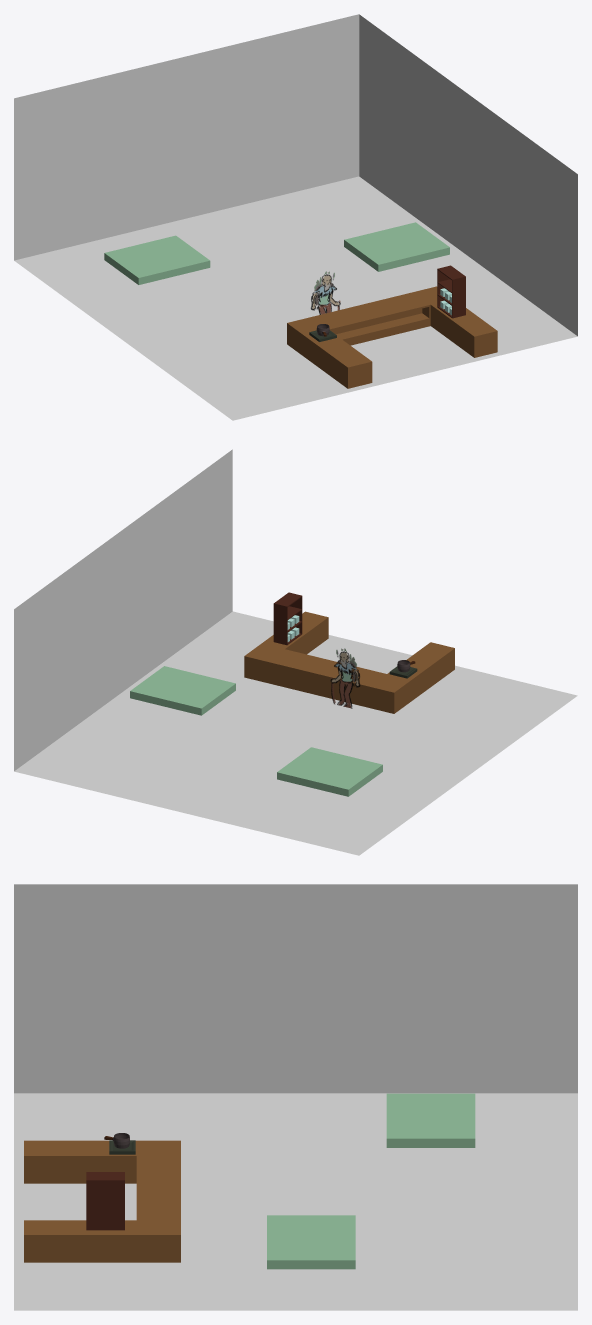
Rendered from brewing_env.glb.
The picture shows the model from 3 angles, top to bottom: view 1: azimuth 30°, elevation 25°; view 2: azimuth 150°, elevation 25°; view 3: azimuth 270°, elevation 25°; orthographic projection. The views are drawn at different scales.
Parts seen in each view (by area): view 1: FloorWalls, Counter, Table1, Table2, TeaShelf, oldman; view 2: FloorWalls, Counter, Table1, Table2, TeaShelf, oldman; view 3: FloorWalls, Counter, Table1, Table2, TeaShelf.
Part boxes in pixels (x1=…): FloorWalls: x1=14, y1=14, x2=577, y2=420; Counter: x1=287, y1=286, x2=497, y2=388; Table1: x1=104, y1=235, x2=210, y2=284; Table2: x1=344, y1=222, x2=449, y2=271; TeaShelf: x1=437, y1=265, x2=465, y2=318; oldman: x1=311, y1=271, x2=340, y2=314; FloorWalls: x1=14, y1=449, x2=577, y2=855; Counter: x1=244, y1=611, x2=454, y2=713; Table1: x1=277, y1=747, x2=382, y2=796; Table2: x1=130, y1=666, x2=235, y2=715; TeaShelf: x1=273, y1=592, x2=302, y2=645; oldman: x1=330, y1=648, x2=360, y2=708; FloorWalls: x1=14, y1=884, x2=577, y2=1310; Counter: x1=24, y1=1140, x2=180, y2=1262; Table1: x1=386, y1=1093, x2=475, y2=1147; Table2: x1=267, y1=1215, x2=355, y2=1269; TeaShelf: x1=86, y1=1172, x2=124, y2=1230.
Bounding box in the file's own units: 27.38 × 12.7 × 30.06.
9 materials, 1 textured.
